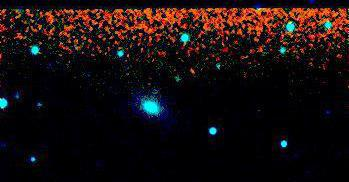star: (179, 56, 209, 86)
